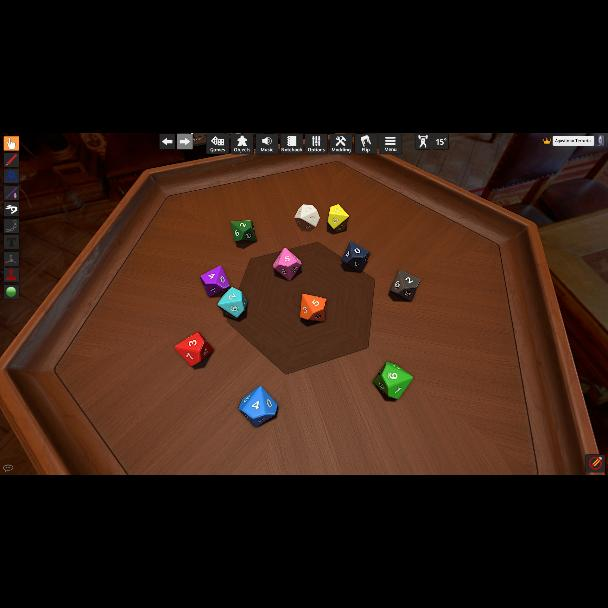d10: (238, 385, 278, 427), (374, 362, 410, 398), (175, 332, 213, 366), (274, 247, 302, 281), (200, 266, 228, 298), (218, 288, 247, 318), (390, 270, 418, 300), (298, 294, 326, 322), (342, 242, 368, 272), (294, 203, 320, 230), (327, 204, 349, 232), (230, 220, 255, 242)
